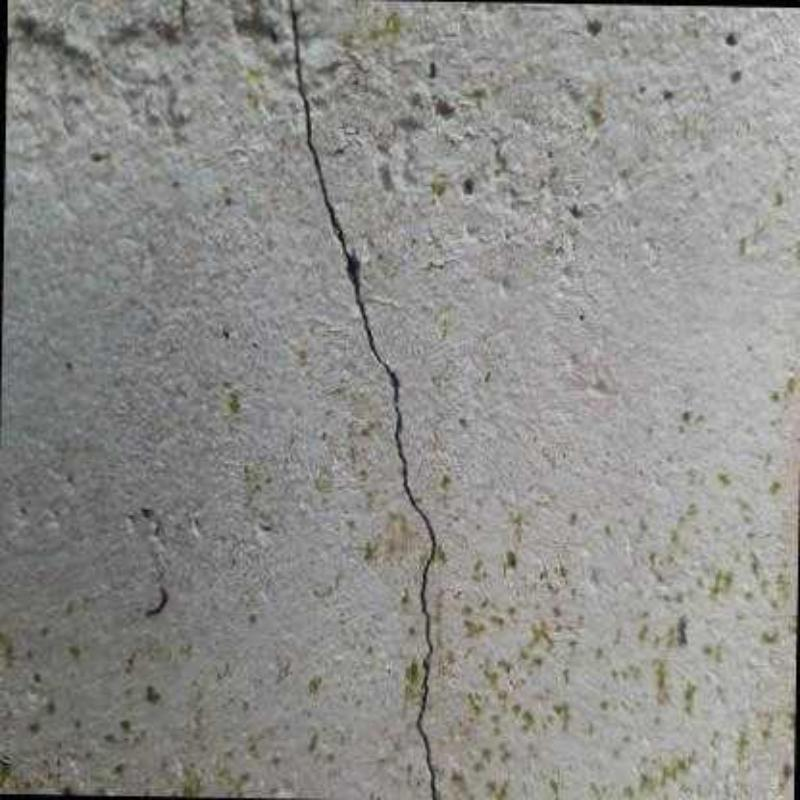pothole: (292, 9, 437, 798)
